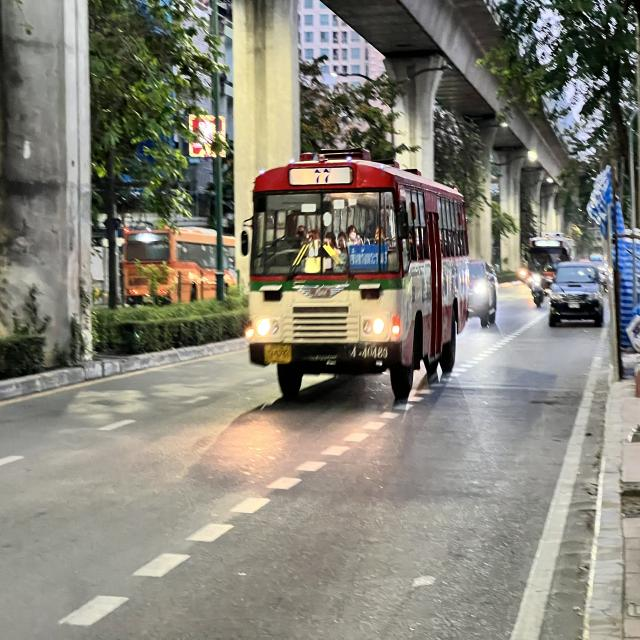BMTA-bus: (245, 155, 470, 407)
Bus-Line-Number: (308, 165, 336, 186)
Destination-Sign-Normal: (350, 245, 390, 270)
